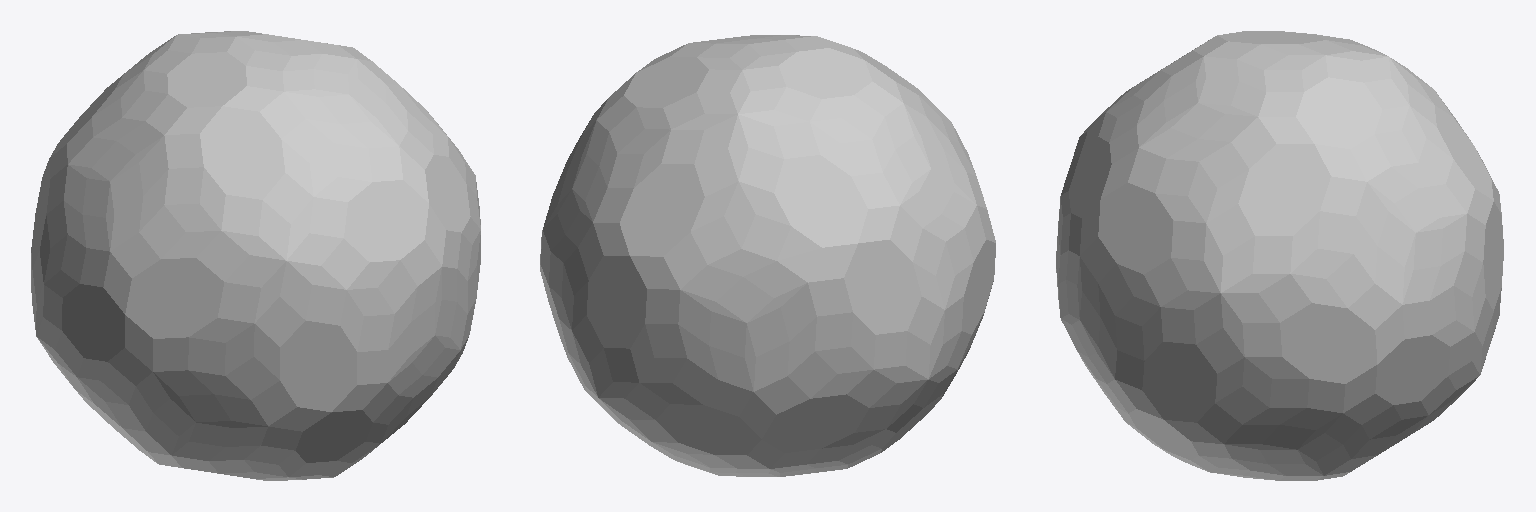
Rendered from Izono-24_From_Snub_Cube.obj.
3 renders of one model, left to right at view 1: azimuth 30°, elevation 25°; view 2: azimuth 150°, elevation 25°; view 3: azimuth 270°, elevation 25°, orthographic.
Visible parts, largest first — view 1: IZono-24_from_Snub_Cube; view 2: IZono-24_from_Snub_Cube; view 3: IZono-24_from_Snub_Cube.
Boxes of the visible parts, <box> form: IZono-24_from_Snub_Cube: <box>31,31,480,480</box>; IZono-24_from_Snub_Cube: <box>540,35,995,476</box>; IZono-24_from_Snub_Cube: <box>1056,31,1503,480</box>.
Size of the model in its own units: 1.93 by 1.91 by 1.92.